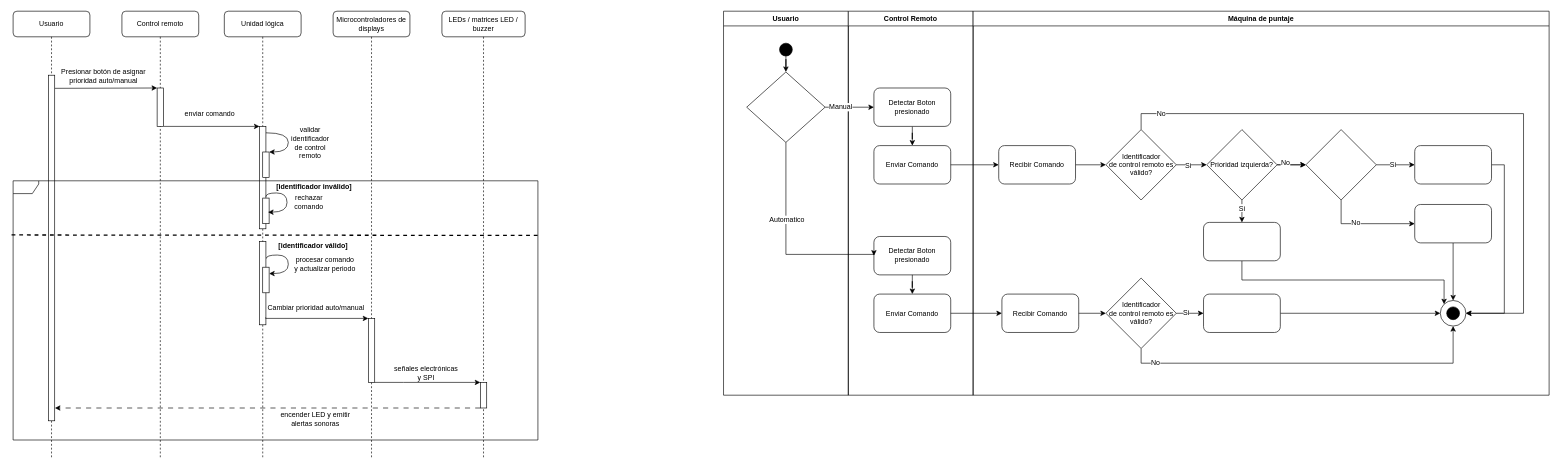
Some shapes in this 1560 by 470 pixel diagram are drawn without their labels. Here are the shapes that lost their labels. From the top down, the centre of each, then its label:
At point (785, 106): "Presionar boton de asignar prioridad auto/manual".
At point (1340, 164): "Prioridad derecha?".
At point (1453, 164): "Quitar prioridad".
At point (1241, 241): "Asignar derecha".
At point (1453, 223): "Asignar izquierda".
At point (275, 310): "alt".
At point (1241, 312): "Asignar prioridad aleatoriamente".
